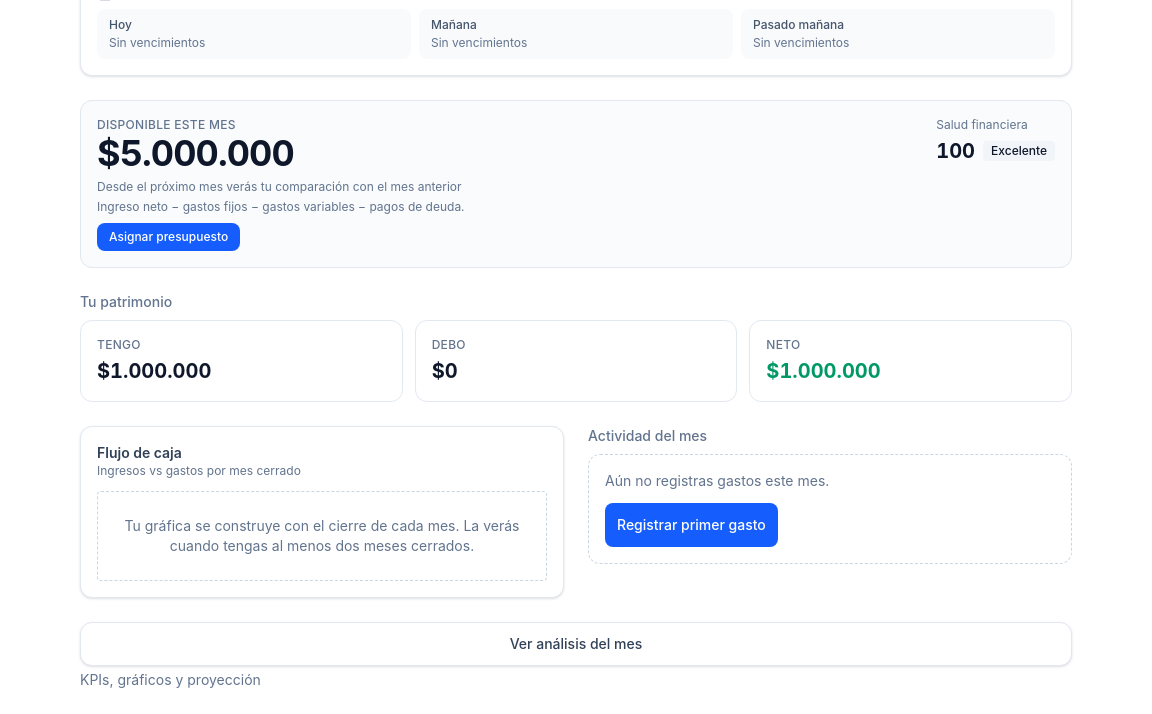
Test: DashboardView — redesigned layout (TC-I-012) › AC-6.3: new sections live outside the collapsible tier-2 container
(page scrolled)
Click the button with test id "dashboard-tier2-toggle". click: point(576, 644)
box: [80,622,1072,666]
(page scrolled)
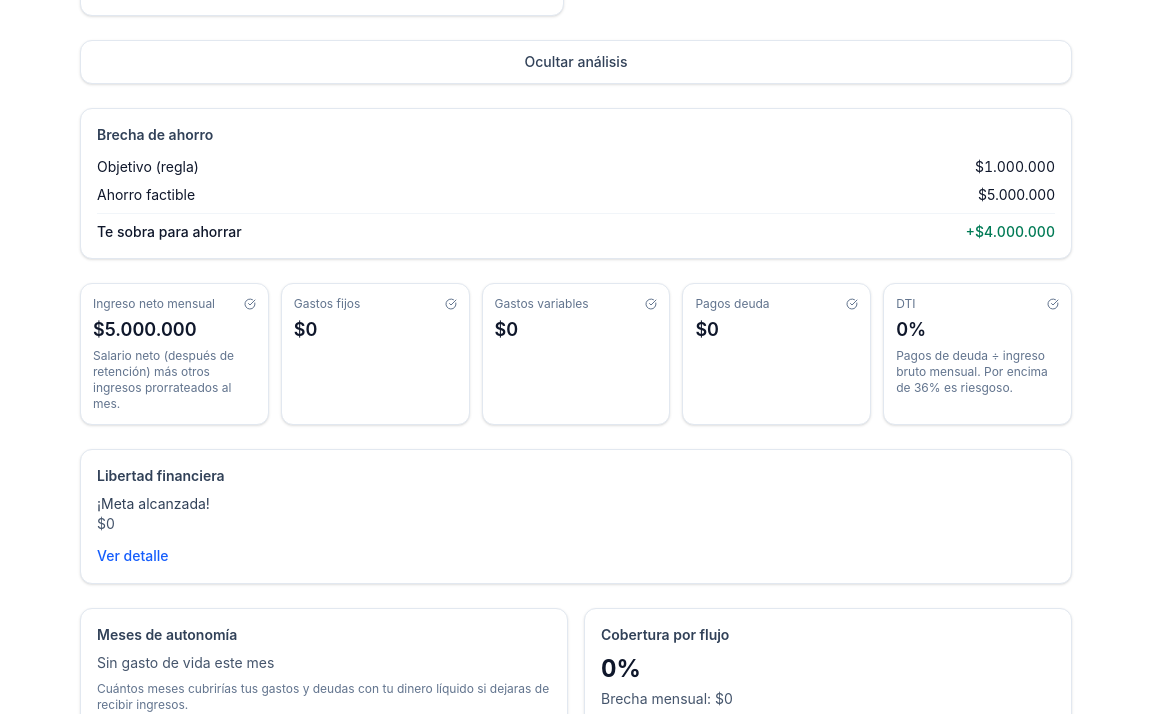
Expected: the element with test id "kpi-strip" is shown, [80,283,1072,425]
